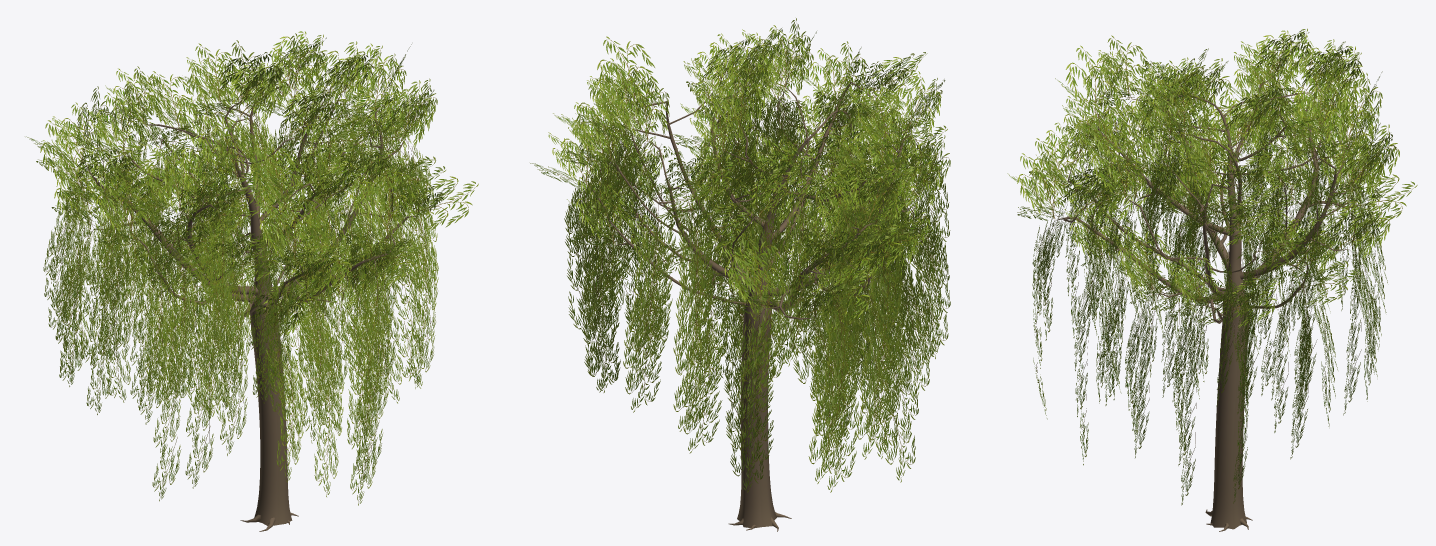
Rendered from corealm_willow_2.glb.
3 renders of one model, left to right at view 1: azimuth 30°, elevation 25°; view 2: azimuth 150°, elevation 25°; view 3: azimuth 270°, elevation 25°, orthographic. The views are drawn at different scales.
Parts seen in each view (by area): view 1: corealm_willow_2; view 2: corealm_willow_2; view 3: corealm_willow_2.
Part boxes in pixels (x1=…): corealm_willow_2: x1=26, y1=31, x2=478, y2=531; corealm_willow_2: x1=530, y1=18, x2=950, y2=531; corealm_willow_2: x1=1007, y1=28, x2=1417, y2=531.
Bounding box in the file's own units: 6.61 × 7.75 × 6.23.
2 materials, 1 textured.
